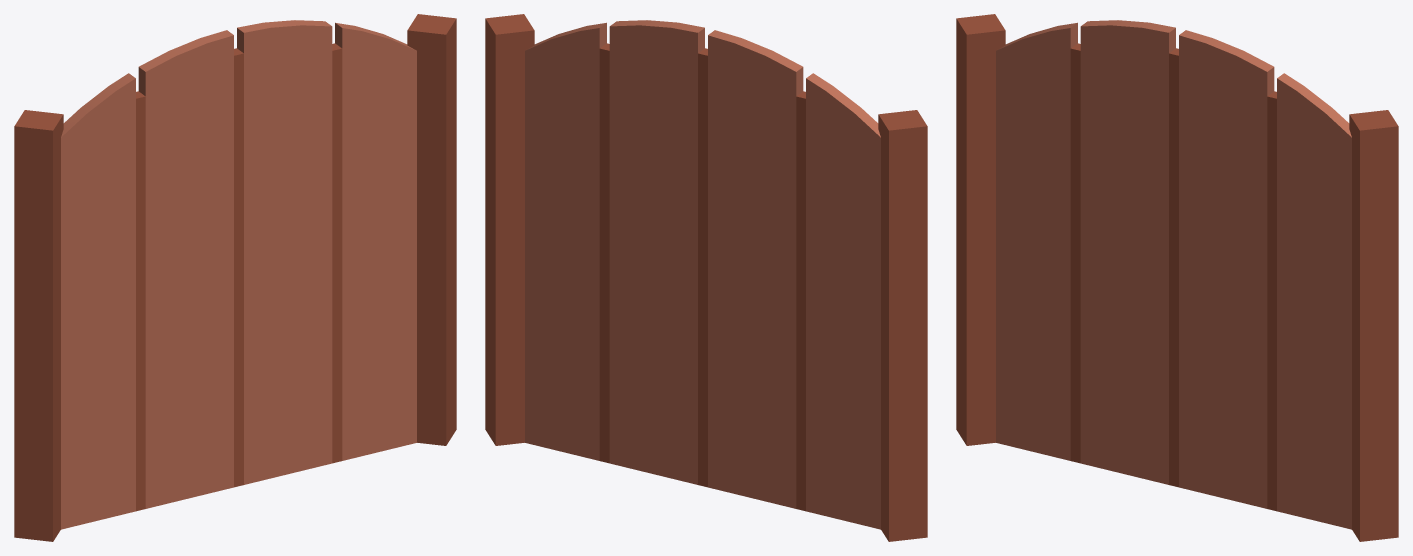
Rendered from Gate.fbx.
3 renders of one model, left to right at view 1: azimuth 30°, elevation 25°; view 2: azimuth 150°, elevation 25°; view 3: azimuth 330°, elevation 25°, orthographic.
Parts seen in each view (by area): view 1: mergedBlocks; view 2: mergedBlocks; view 3: mergedBlocks.
Boxes of the visible parts, x1,y1,x2,y2 form: mergedBlocks: (14, 14, 456, 541); mergedBlocks: (485, 14, 927, 541); mergedBlocks: (956, 14, 1398, 541).
Size of the model in its own units: 11.25 by 10.99 by 1.25.
